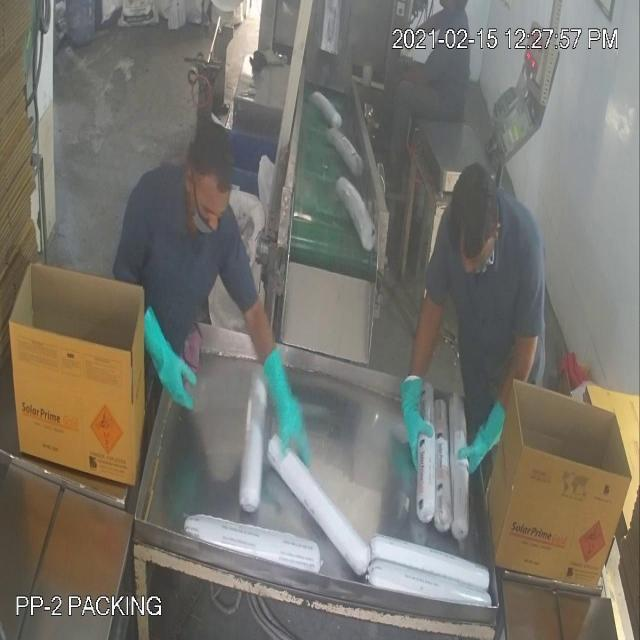Gloves: (58, 104, 489, 438)
